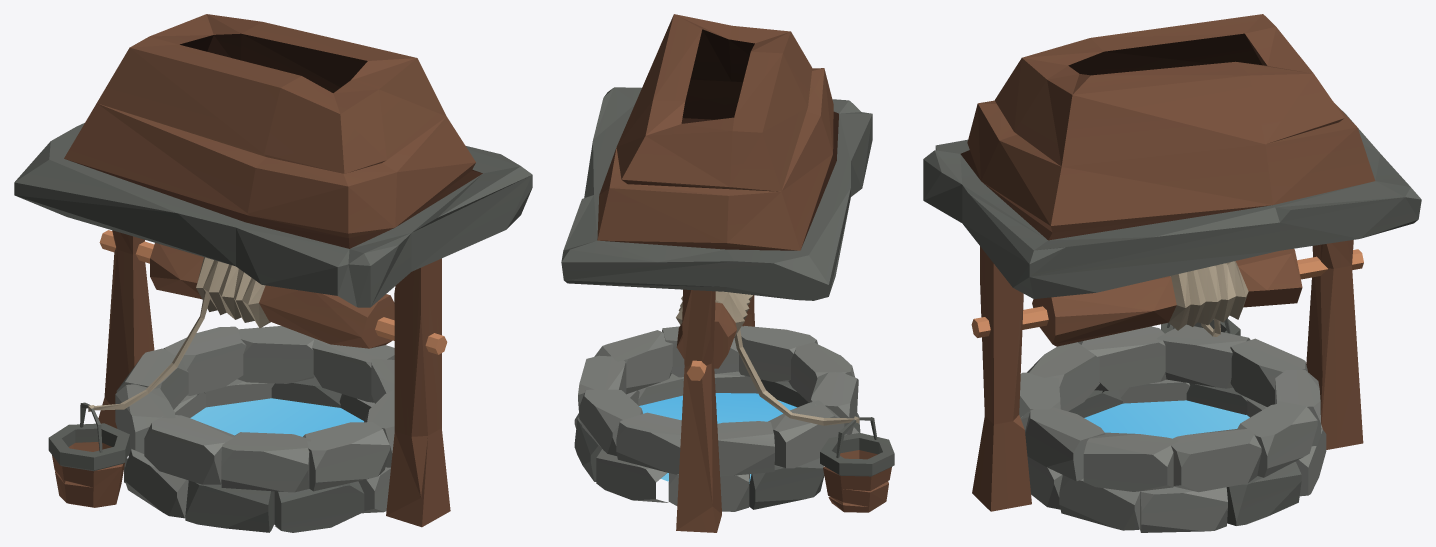
The model's file is SuKuyusu.fbx.
The picture shows the model from 3 angles, left to right: view 1: azimuth 30°, elevation 25°; view 2: azimuth 150°, elevation 25°; view 3: azimuth 270°, elevation 25°; orthographic projection. The views are drawn at different scales.
Visible parts, largest first — view 1: SuKuyusu; view 2: SuKuyusu; view 3: SuKuyusu.
Boxes of the visible parts, x1,y1,x2,y2 form: SuKuyusu: (14,14,532,532); SuKuyusu: (561,14,894,532); SuKuyusu: (923,14,1421,532).
Size of the model in its own units: 175 by 179 by 192.
